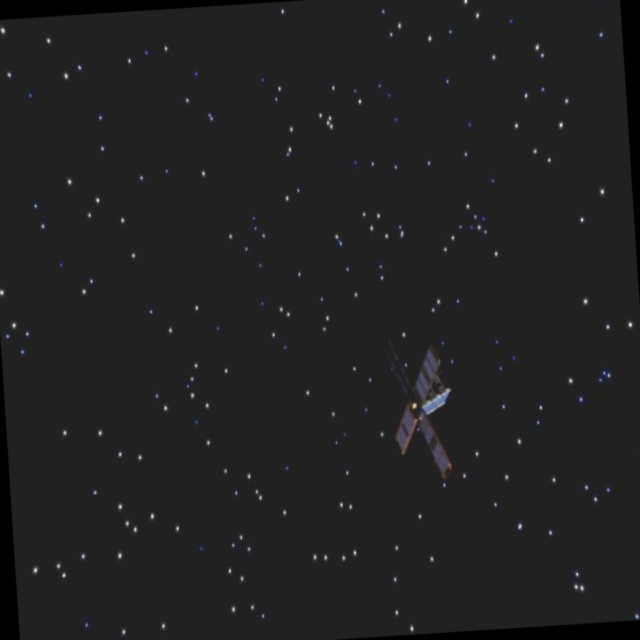medium_debris: (375, 324, 457, 496)
